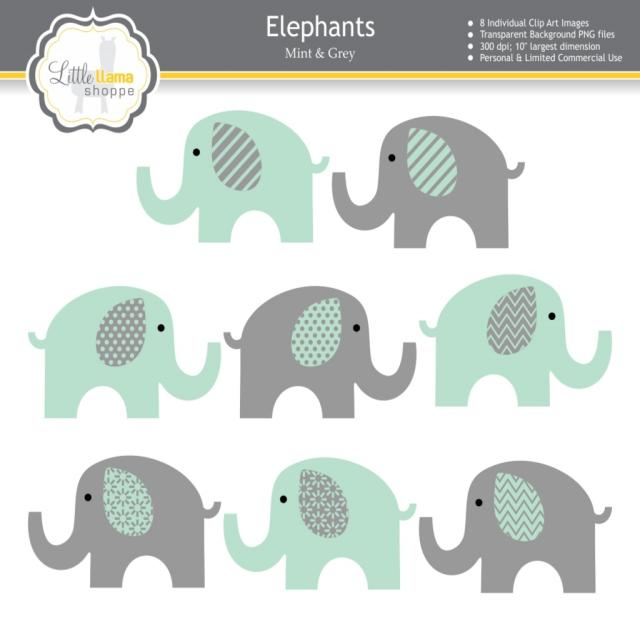elephant: (4, 432, 224, 590), (131, 118, 344, 252), (331, 111, 520, 251), (217, 459, 417, 589), (419, 461, 610, 596), (416, 275, 610, 405), (221, 293, 417, 421), (31, 296, 211, 414)
